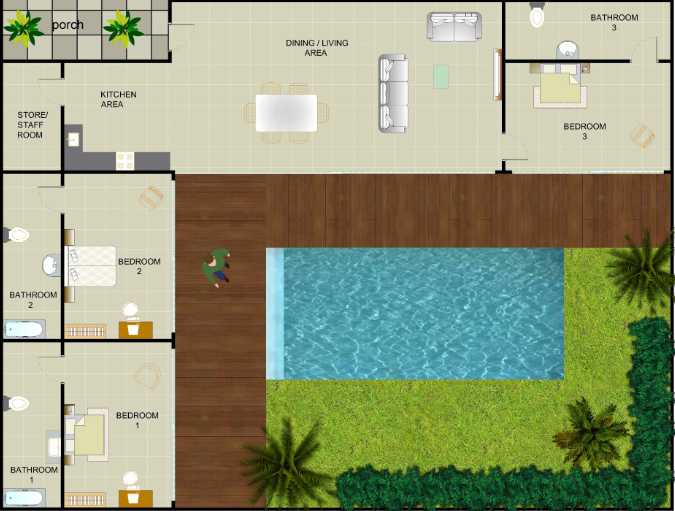room: (59, 339, 175, 511), (501, 58, 674, 173), (60, 171, 175, 339), (1, 169, 63, 341), (1, 338, 63, 510)
